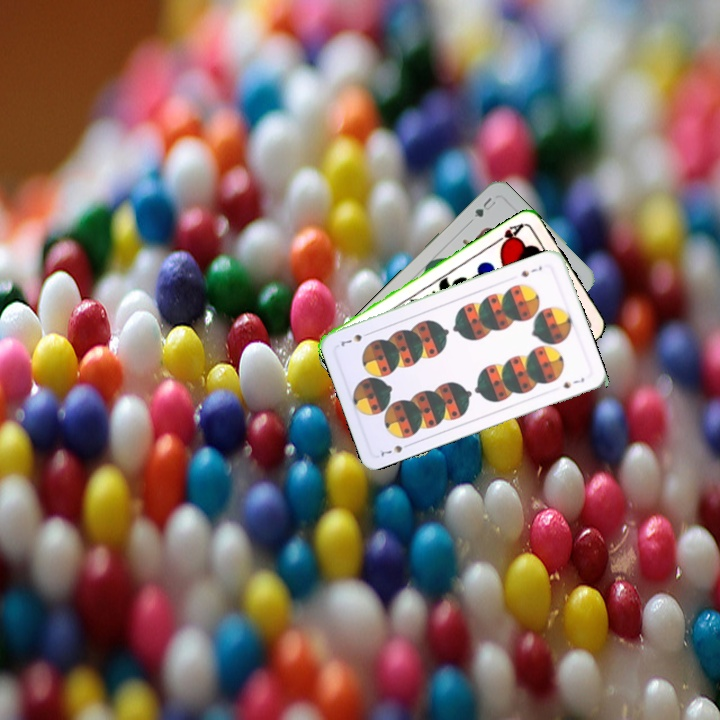GU: (466, 193, 498, 225)
HA: (490, 219, 527, 251)
S7: (376, 439, 414, 459), (517, 261, 544, 280)
